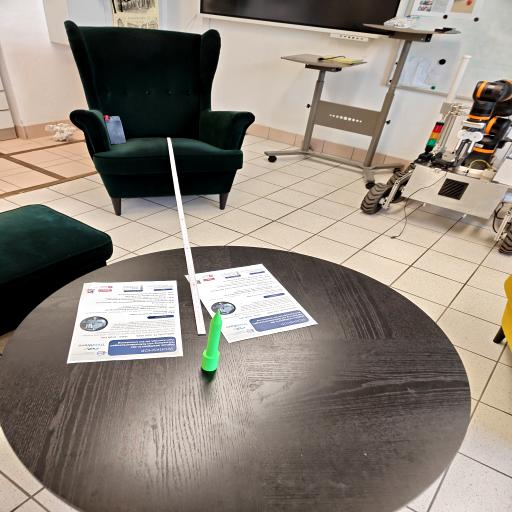Probe-Detection: (201, 309, 222, 371)
